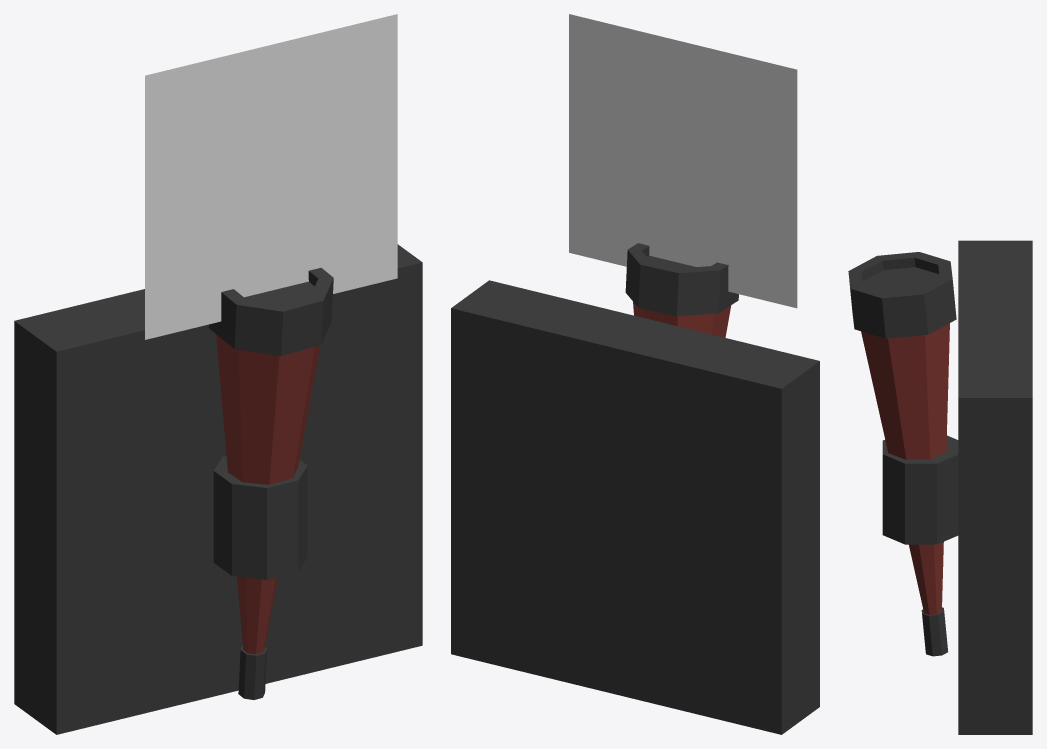
The model's file is torch.fbx.
The picture shows the model from 3 angles, left to right: view 1: azimuth 30°, elevation 25°; view 2: azimuth 150°, elevation 25°; view 3: azimuth 270°, elevation 25°; orthographic projection. The views are drawn at different scales.
Visible parts, largest first — view 1: Cube, Fire; view 2: Cube, Fire; view 3: Cube.
Part boxes in pixels (bbox=[...]): Cube: bbox=[14, 244, 422, 734]; Fire: bbox=[145, 14, 397, 339]; Cube: bbox=[451, 243, 819, 734]; Fire: bbox=[569, 14, 797, 308]; Cube: bbox=[848, 240, 1032, 734].
Size of the model in its own units: 200 by 349 by 99.02.
